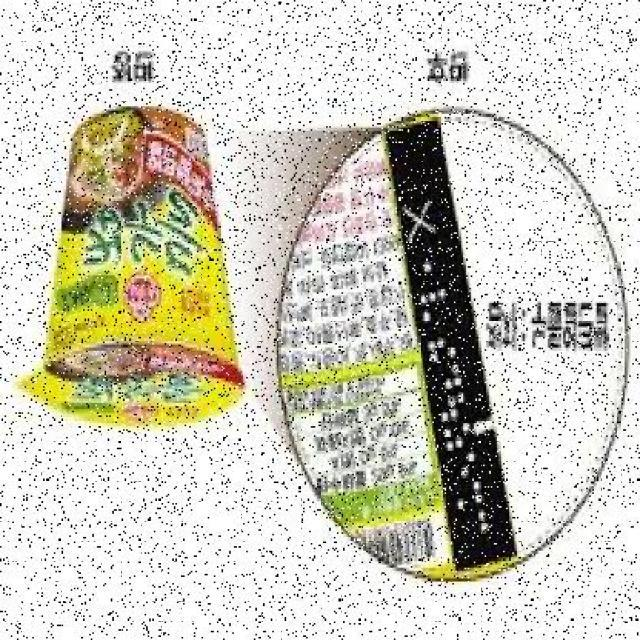Miscellaneous: (23, 98, 249, 452)
